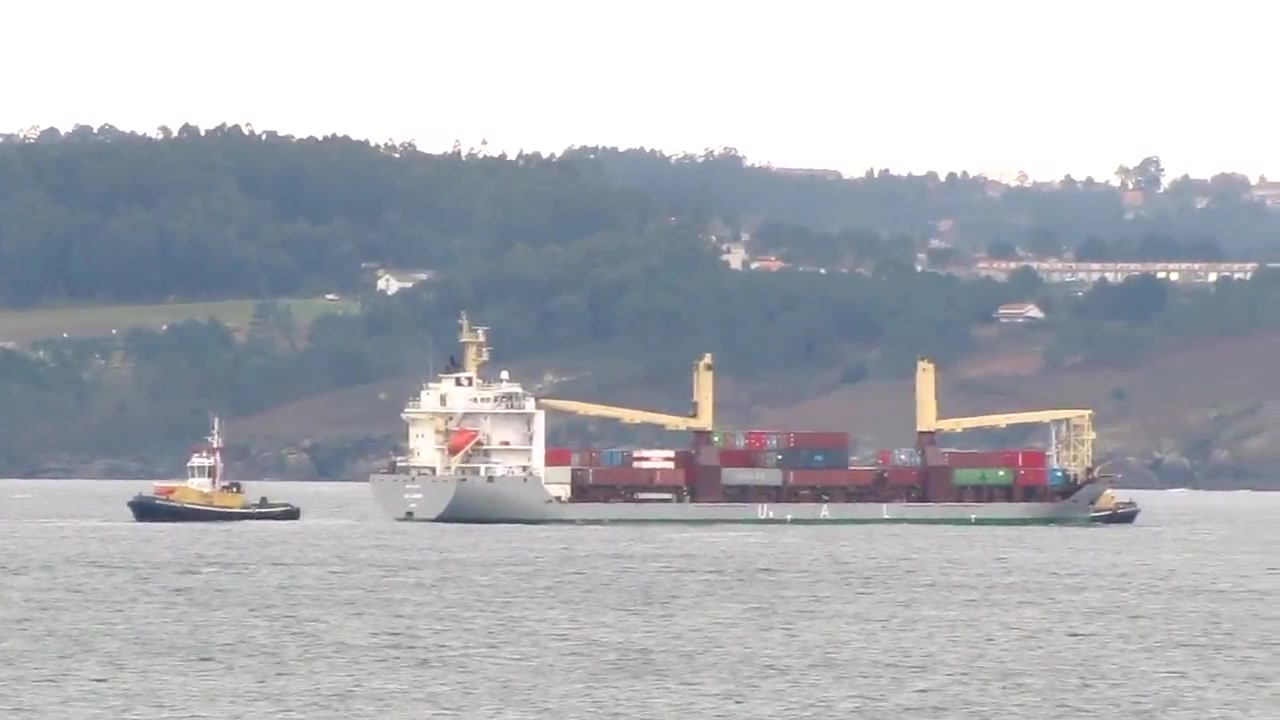boat: (370, 310, 1132, 530)
